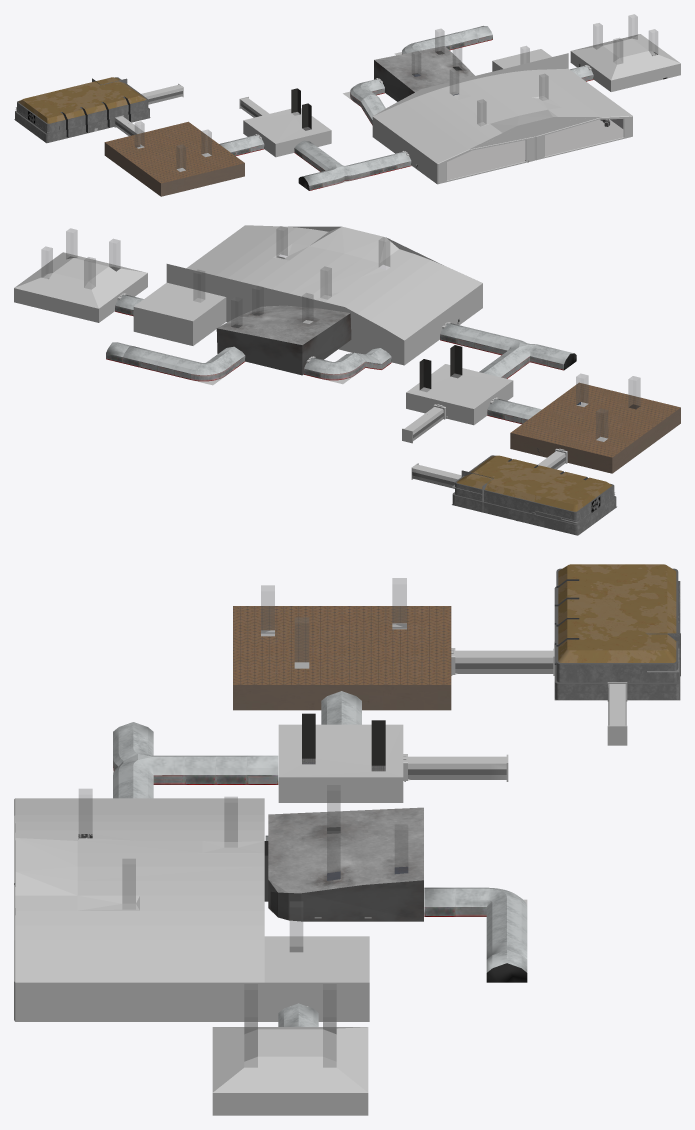
The model's file is mapa1.dae.
The picture shows the model from 3 angles, top to bottom: view 1: azimuth 30°, elevation 25°; view 2: azimuth 150°, elevation 25°; view 3: azimuth 270°, elevation 25°; orthographic projection. The views are drawn at different scales.
Visible parts, largest first — view 1: Nave.001, Armeria, SalaEntrenamiento, Taller, Sala Lanzamiento, Cruce.001, Pasillo T, Curva Pasillo, Pasillo Puerta.011; view 2: Nave.001, Armeria, SalaEntrenamiento, Sala Lanzamiento, Taller, Cruce.001, Pasillo T, Curva Pasillo, Curva Pasillo Final, Pasillo Puerta.011; view 3: Nave.001, Armeria, Sala Lanzamiento, SalaEntrenamiento, Taller, Cruce.001, Pasillo T, Curva Pasillo Final, Pasillo Puerta.012, Pasillo Puerta.007, Pasillo Recto.008, Pasillo Puerta.003 (+1 smaller).
Part boxes in pixels (x1,y1,x2,y2): Nave.001: [372, 46, 632, 184]; Armeria: [104, 121, 244, 196]; SalaEntrenamiento: [14, 77, 150, 143]; Taller: [570, 14, 680, 91]; Sala Lanzamiento: [374, 29, 474, 101]; Cruce.001: [243, 88, 331, 157]; Pasillo T: [314, 158, 369, 187]; Curva Pasillo: [343, 82, 375, 106]; Pasillo Puerta.011: [298, 173, 323, 190]; Nave.001: [133, 225, 482, 365]; Armeria: [510, 373, 680, 473]; SalaEntrenamiento: [452, 455, 616, 535]; Sala Lanzamiento: [216, 285, 351, 375]; Taller: [14, 228, 147, 322]; Cruce.001: [406, 345, 513, 425]; Pasillo T: [491, 335, 556, 368]; Curva Pasillo: [321, 352, 365, 384]; Curva Pasillo Final: [191, 354, 235, 385]; Pasillo Puerta.011: [547, 349, 576, 370]; Nave.001: [14, 789, 369, 1021]; Armeria: [233, 578, 451, 710]; Sala Lanzamiento: [264, 785, 423, 921]; SalaEntrenamiento: [554, 564, 680, 700]; Taller: [212, 984, 368, 1115]; Cruce.001: [278, 713, 403, 802]; Pasillo T: [113, 735, 184, 787]; Curva Pasillo Final: [455, 887, 527, 916]; Pasillo Puerta.012: [486, 950, 527, 982]; Pasillo Puerta.007: [424, 887, 455, 916]; Pasillo Recto.008: [184, 755, 215, 784]; Pasillo Puerta.003: [247, 755, 278, 784].
Bounding box in the file's own units: 390 × 214 × 38.89.
